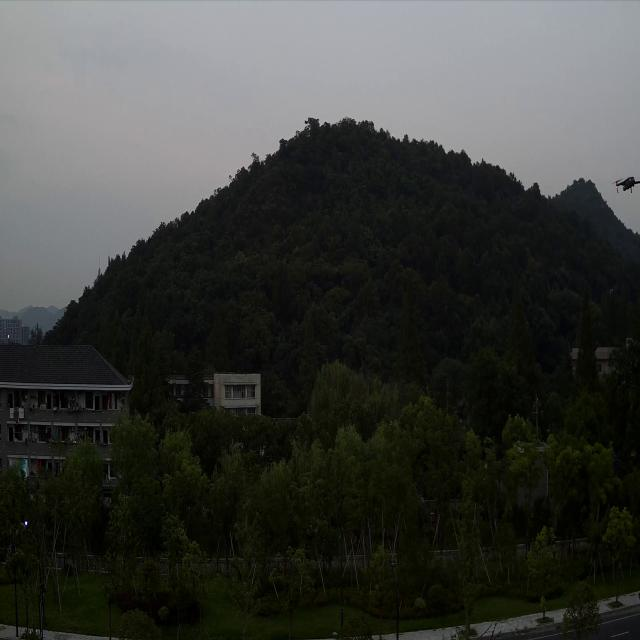UAV: (610, 172, 640, 195)
